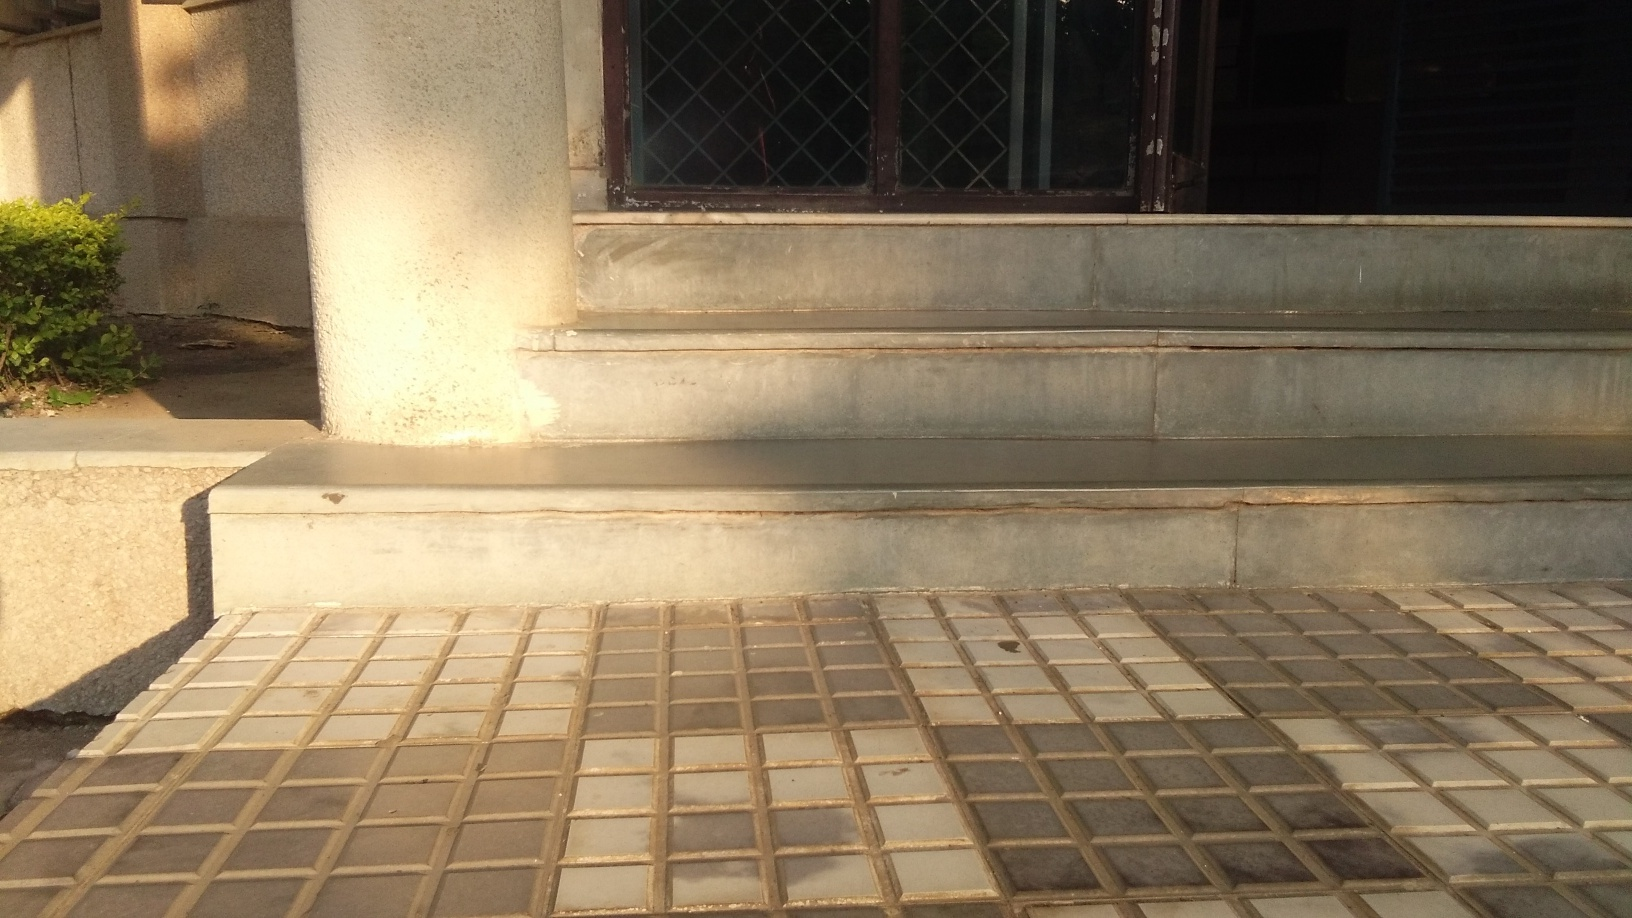stairs_up: (203, 195, 1632, 614)
